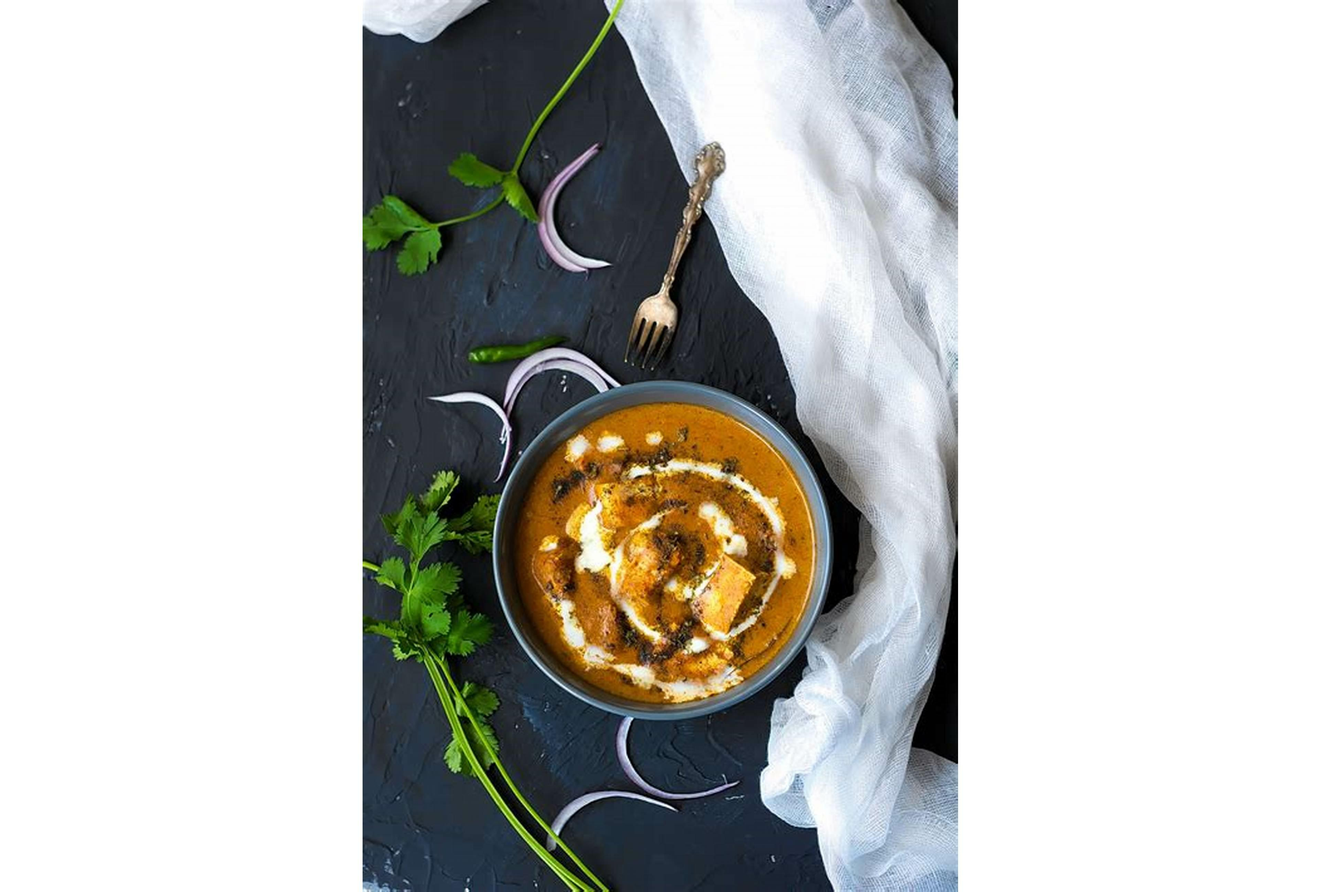ShahiPaneer: (518, 406, 817, 714)
